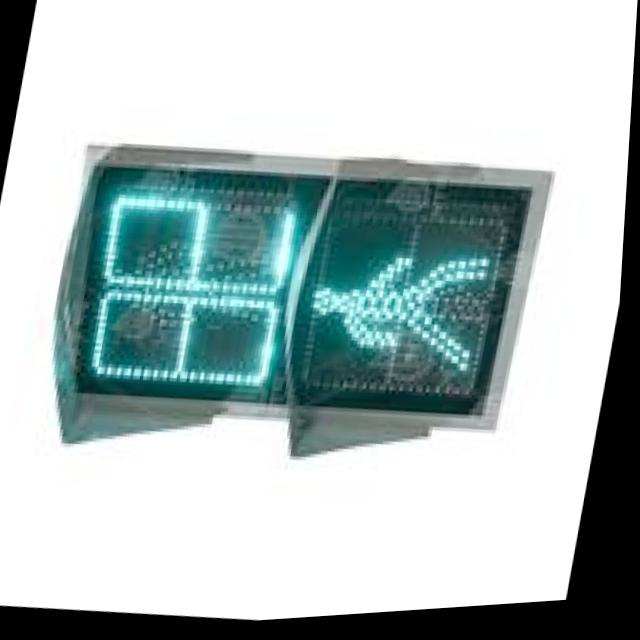green_light: (260, 71, 624, 550), (30, 86, 357, 508)
